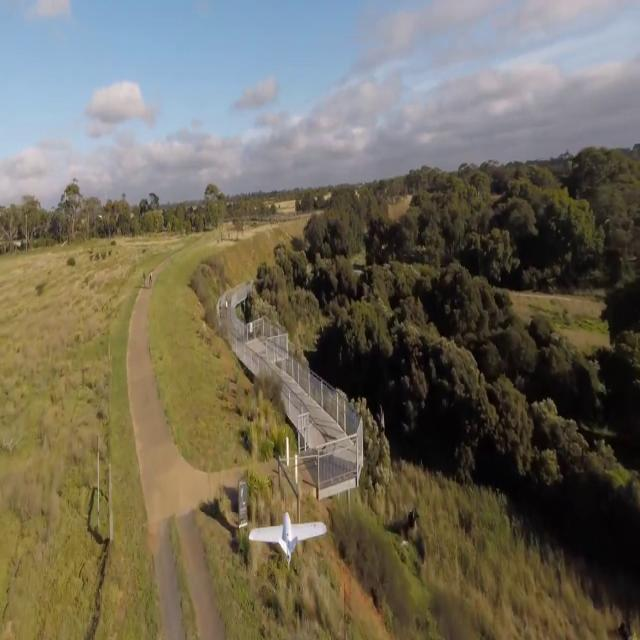iha: (279, 511, 297, 564)
